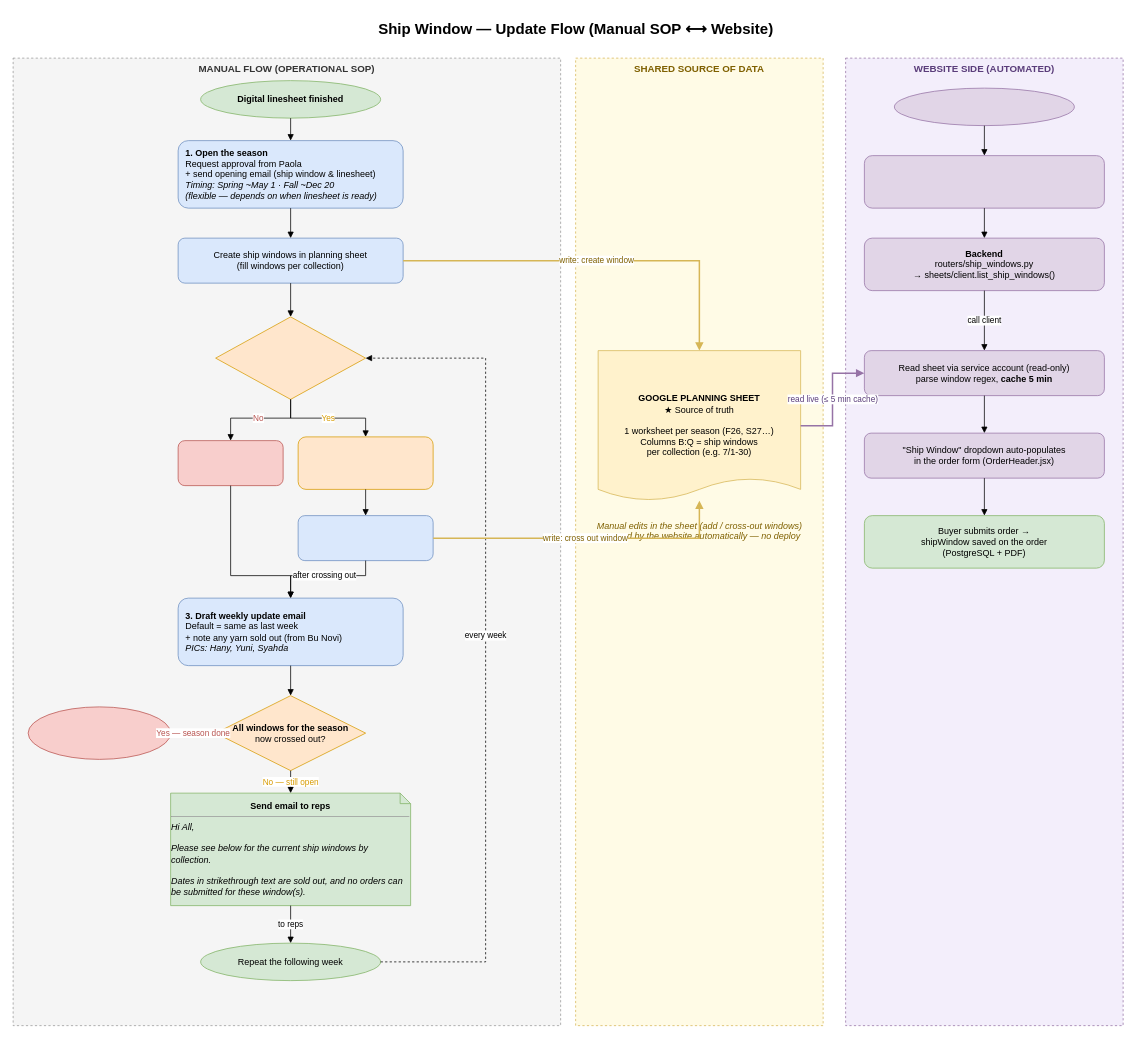
The diagram is 1136 pixels wide and 1039 high, and some of its shapes have lost their labels. The shapes that lost their labels are listed below. From the top down, each one's centre as x and y in pixels, then its label:
At (984,106): "Buyer opens the order form & picks a season".
At (984,181): "Frontend api.js → getShipWindows(season) GET /api/ship-windows?season=F26".
At (290,357): "2. Weekly check Any window closing within the next 7 days?".
At (230,463): "No change (windows stay as-is)".
At (365,462): "Confirm with Bu Novi".
At (365,538): "Cross out the window date in the planning sheet".
At (99,732): "Season fully closed — stop weekly emails to reps".
